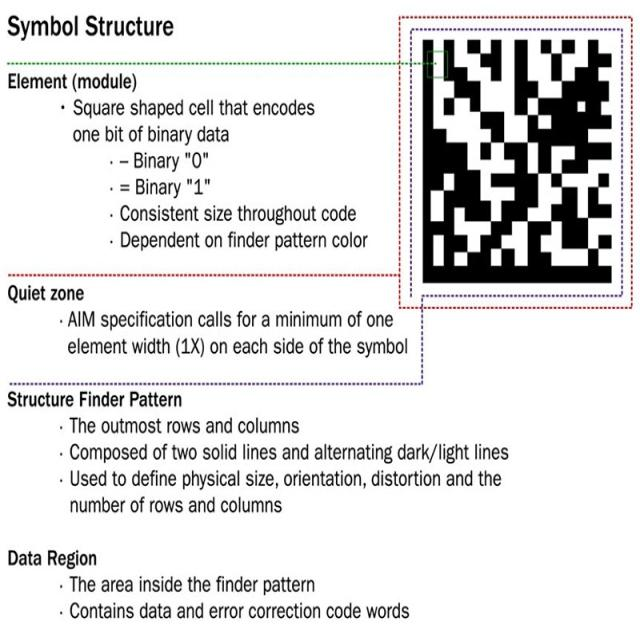datamatrix: (416, 33, 618, 290)
